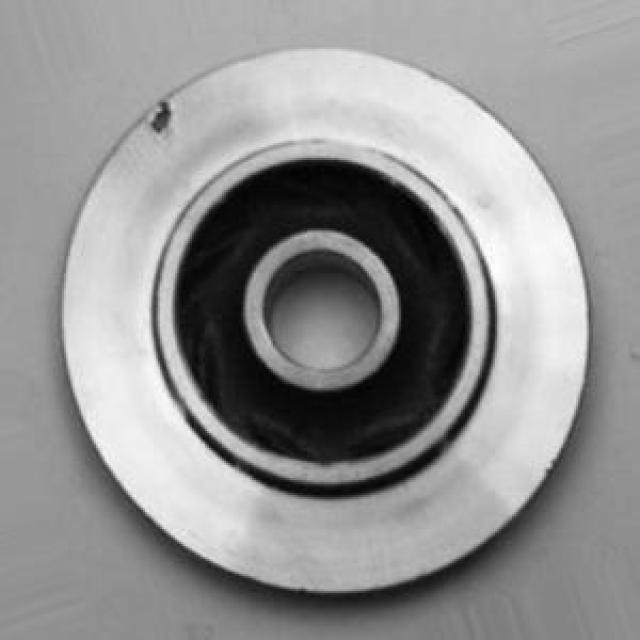Defect: (143, 99, 180, 137)
